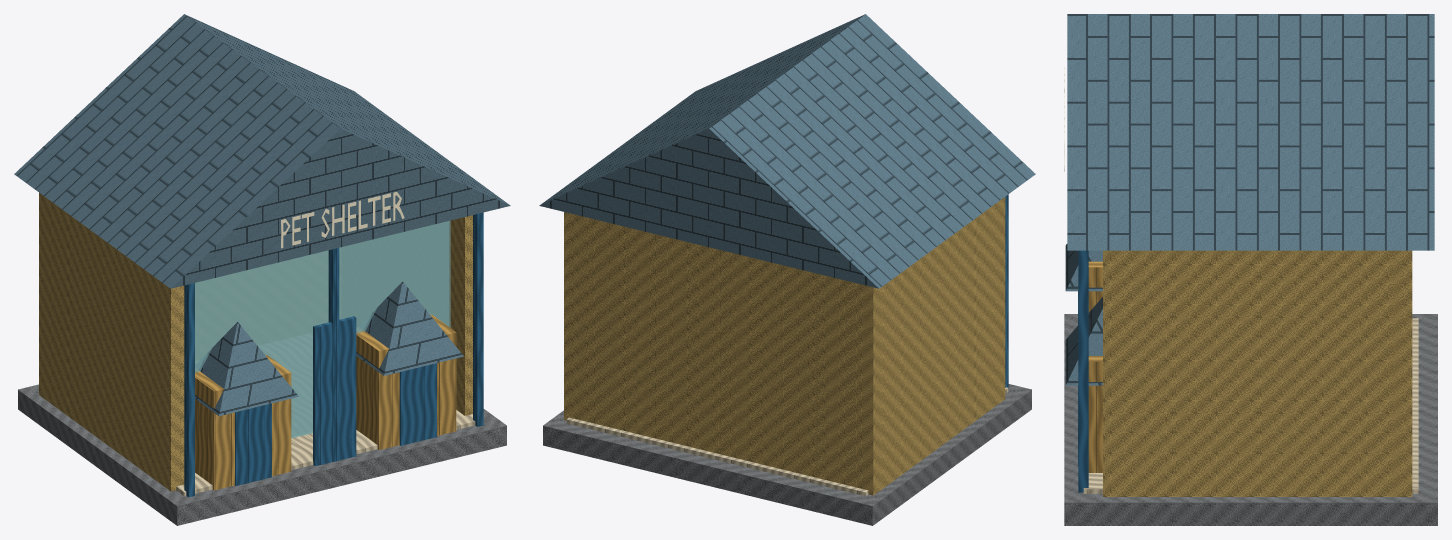
The model's file is pet_shelter.glb.
3 views of the same model, side by side, from view 1: azimuth 30°, elevation 25°; view 2: azimuth 150°, elevation 25°; view 3: azimuth 270°, elevation 25° (orthographic). The views are drawn at different scales.
Parts seen in each view (by area): view 1: gable_roof, side_wall, window_back, foundation, kennel.001, kennel, door, kennel_roof.001, kennel_roof, side_wall.001, kennel_door.001, kennel_door (+6 smaller); view 2: gable_roof, rear_wall, side_wall, foundation, floor, front_post; view 3: gable_roof, side_wall.001, foundation, rear_wall, front_post.002, kennel.001, kennel_roof.001, floor, kennel_roof, kennel.
Boxes of the visible parts, x1,y1,x2,y2 form: gable_roof: (14,14,510,288); side_wall: (44,197,184,491); window_back: (195,221,450,438); foundation: (18,384,506,525); kennel.001: (356,314,456,449); kennel: (195,354,291,490); door: (313,316,356,466); kennel_roof.001: (356,281,463,375); kennel_roof: (195,322,298,416); side_wall.001: (449,215,472,415); kennel_door.001: (399,363,436,445); kennel_door: (235,403,271,485); gable_roof: (539,14,1035,288); rear_wall: (564,212,881,495); side_wall: (879,197,1005,489); foundation: (543,384,1031,525); floor: (566,387,1008,496); front_post: (1005,194,1008,389); gable_roof: (1067,14,1434,250); side_wall.001: (1103,250,1399,496); foundation: (1064,314,1437,525); rear_wall: (1393,250,1412,496); front_post.002: (1078,250,1088,492); kennel.001: (1088,356,1102,472); kennel_roof.001: (1065,297,1102,385); floor: (1083,318,1418,493); kennel_roof: (1065,244,1102,291); kennel: (1088,261,1102,312).
Size of the model in its own units: 3.6 by 3.6 by 2.92.
9 materials, 7 textured.
